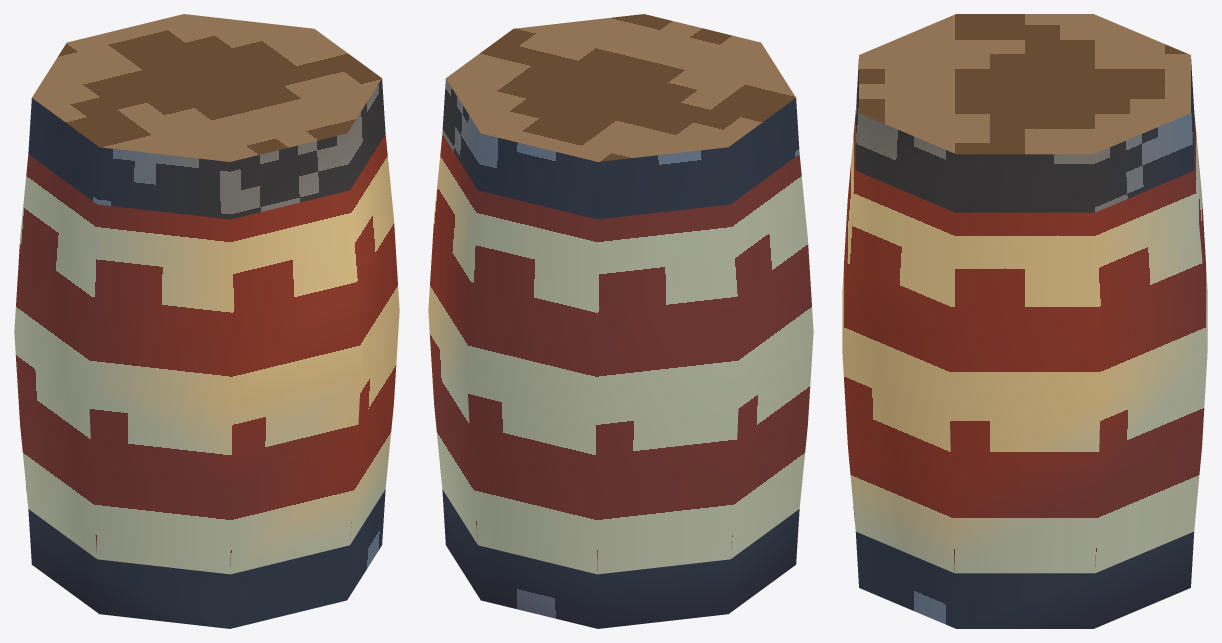
Rendered from wprop.barrel__powder.glb.
3 renders of one model, left to right at view 1: azimuth 30°, elevation 25°; view 2: azimuth 150°, elevation 25°; view 3: azimuth 270°, elevation 25°, orthographic.
Parts seen in each view (by area): view 1: kit_barrel; view 2: kit_barrel; view 3: kit_barrel.
Part boxes in pixels (box(x1,y1,x2,y2)): kit_barrel: box(14, 14, 399, 628); kit_barrel: box(428, 14, 813, 628); kit_barrel: box(842, 14, 1207, 628).
Bounding box in the file's own units: 0.4878 × 0.7 × 0.4878.
3 materials, 3 textured.
